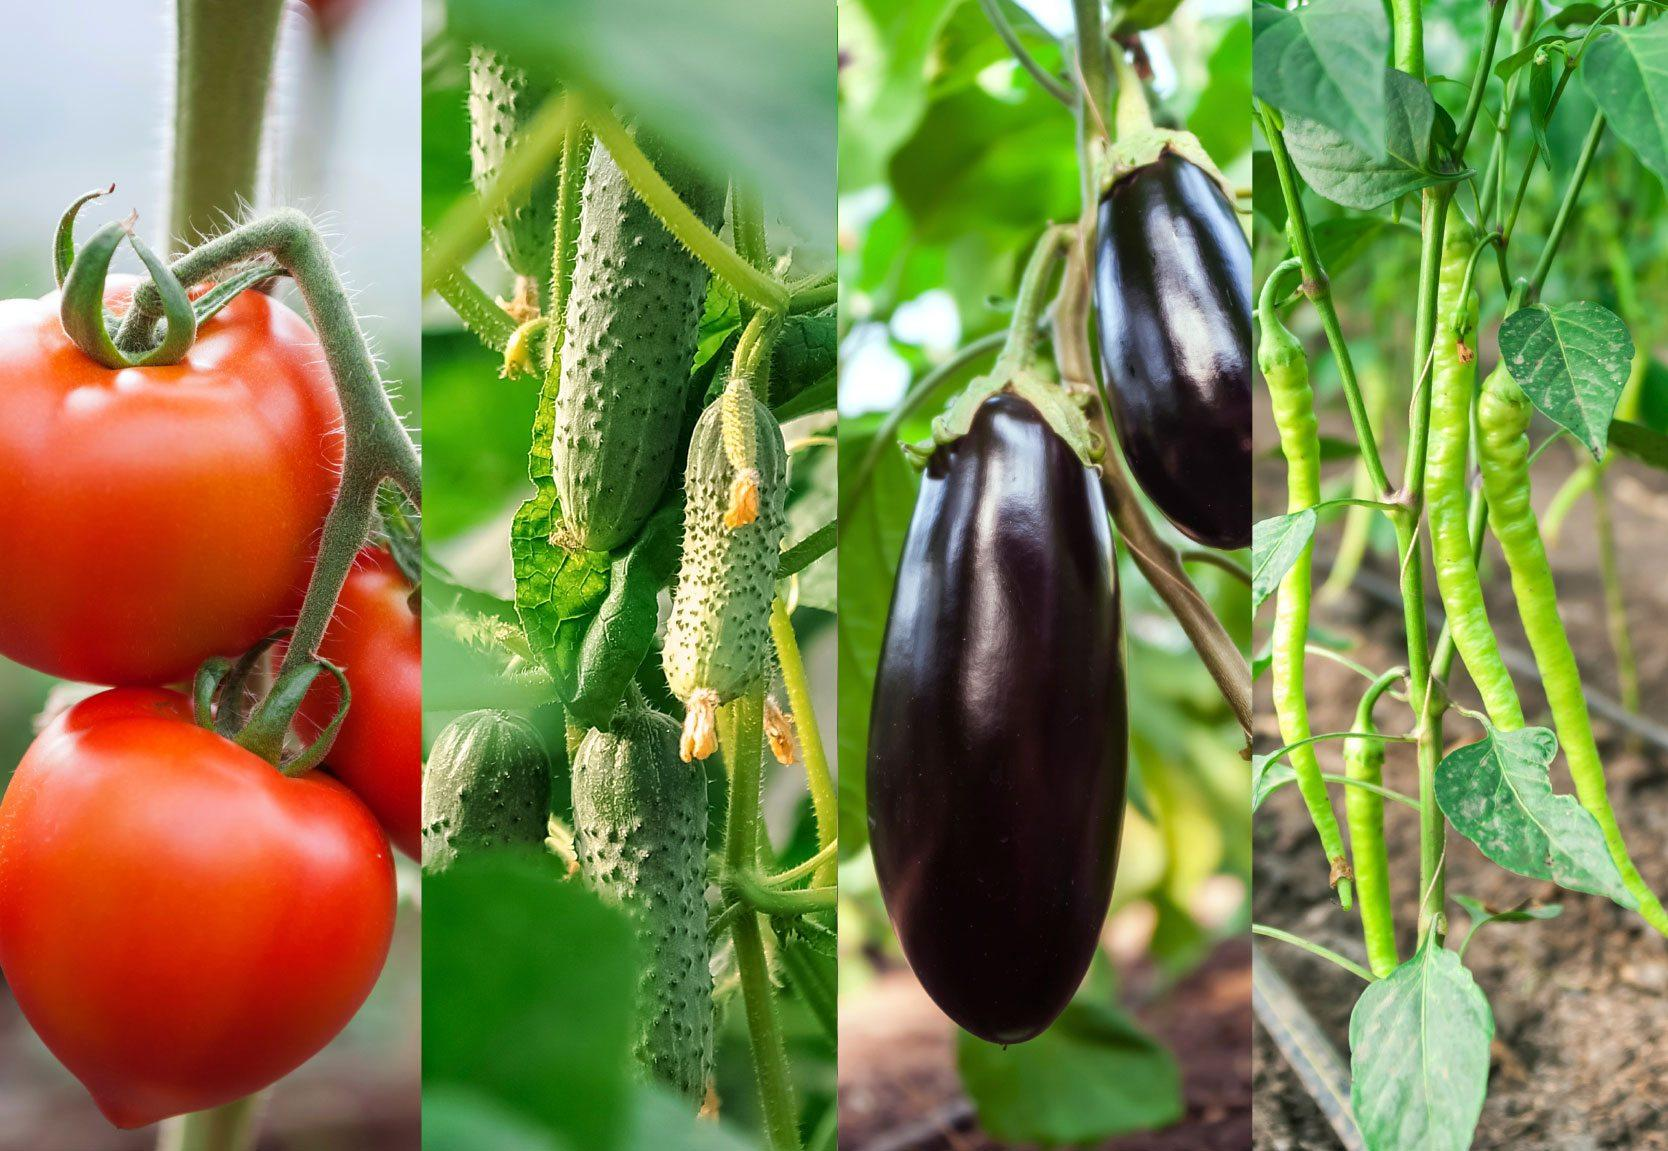eggplant: (863, 387, 1131, 1048), (1090, 138, 1255, 550)
